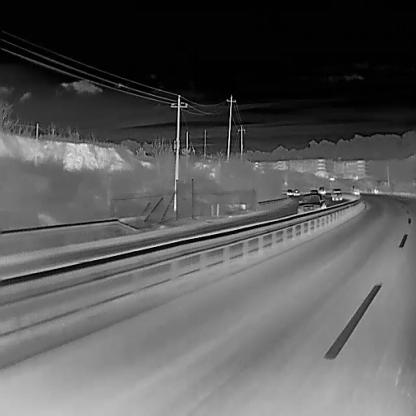car: (295, 192, 327, 214), (330, 187, 343, 201), (351, 184, 360, 195), (317, 185, 326, 195), (370, 185, 378, 194), (292, 188, 300, 196), (286, 188, 292, 196)
